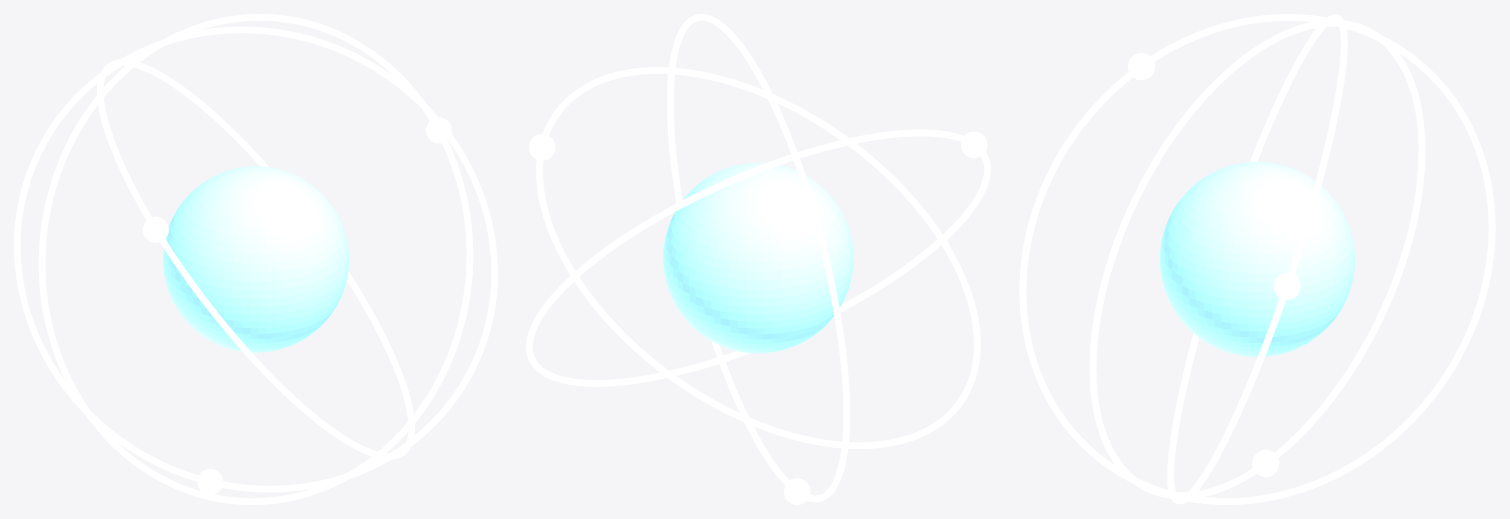
Rendered from orbit.glb.
3 renders of one model, left to right at view 1: azimuth 30°, elevation 25°; view 2: azimuth 150°, elevation 25°; view 3: azimuth 270°, elevation 25°, orthographic. The views are drawn at different scales.
Parts seen in each view (by area): view 1: Core, Ring2, Ring0, Ring1, Dot1, Dot2; view 2: Core, Ring0, Ring1, Ring2, Dot0, Dot1, Dot2; view 3: Core, Ring1, Ring2, Ring0, Dot0, Dot1, Dot2.
Boxes of the visible parts, left/top/right/bottom form: Core: left=163, top=166, right=348, bottom=352; Ring2: left=14, top=26, right=497, bottom=492; Ring0: left=38, top=14, right=473, bottom=504; Ring1: left=97, top=59, right=414, bottom=459; Dot1: left=143, top=216, right=168, bottom=242; Dot2: left=197, top=469, right=222, bottom=494; Core: left=663, top=163, right=853, bottom=353; Ring0: left=536, top=67, right=980, bottom=448; Ring1: left=526, top=129, right=990, bottom=386; Ring2: left=667, top=14, right=849, bottom=502; Dot0: left=529, top=134, right=555, bottom=160; Dot1: left=961, top=131, right=987, bottom=157; Dot2: left=784, top=478, right=810, bottom=504; Core: left=1160, top=162, right=1354, bottom=356; Ring1: left=1019, top=14, right=1495, bottom=504; Ring2: left=1089, top=19, right=1425, bottom=498; Ring0: left=1167, top=14, right=1347, bottom=504; Dot0: left=1273, top=272, right=1300, bottom=299; Dot1: left=1127, top=53, right=1154, bottom=80; Dot2: left=1252, top=450, right=1279, bottom=477.
Size of the model in its own units: 2.64 by 2.65 by 2.44.
